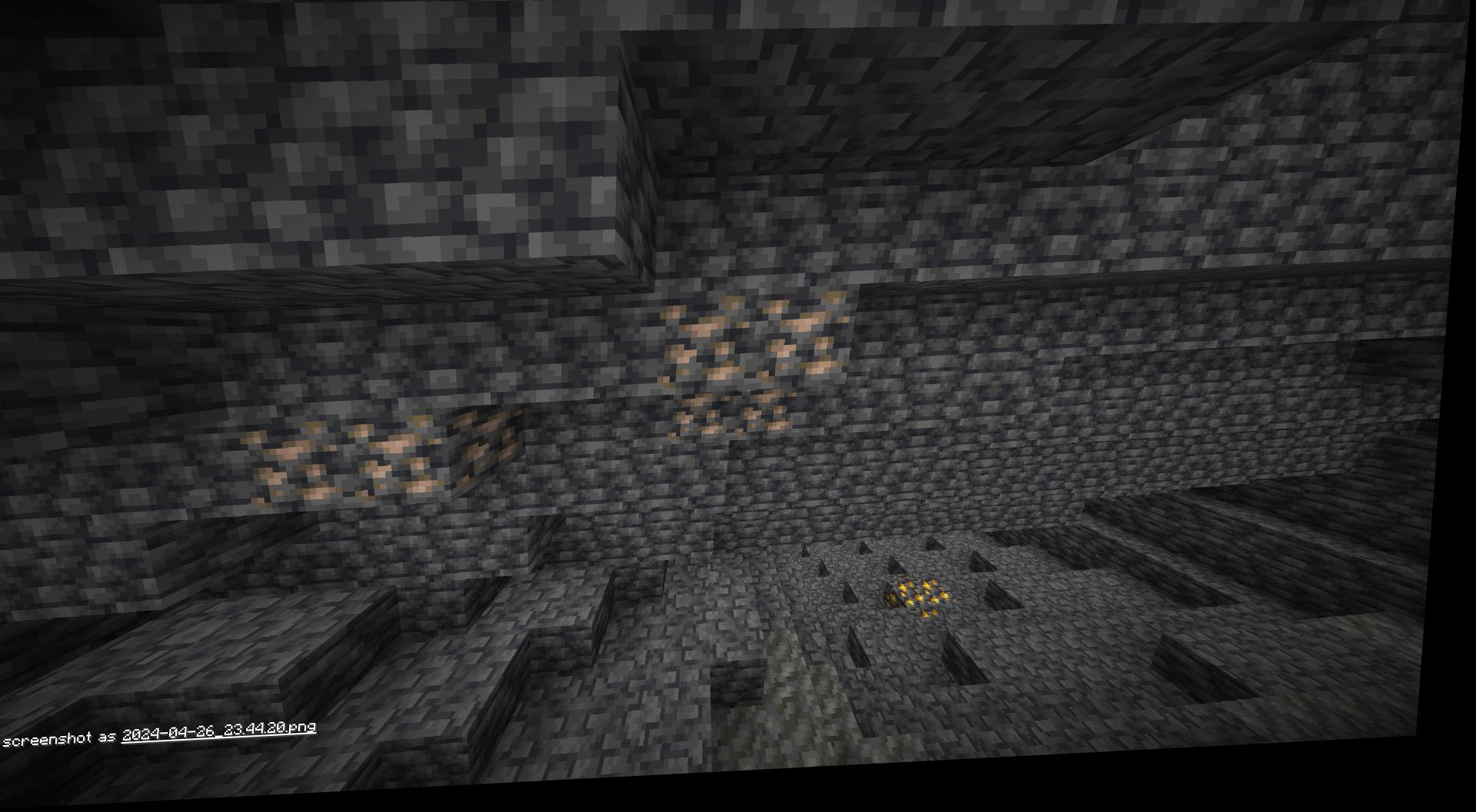gold ore: (898, 588, 959, 639)
iron ore: (240, 423, 348, 515), (348, 414, 450, 502), (665, 303, 760, 391), (758, 296, 853, 381), (462, 411, 532, 490), (673, 399, 740, 448), (742, 392, 802, 444)
